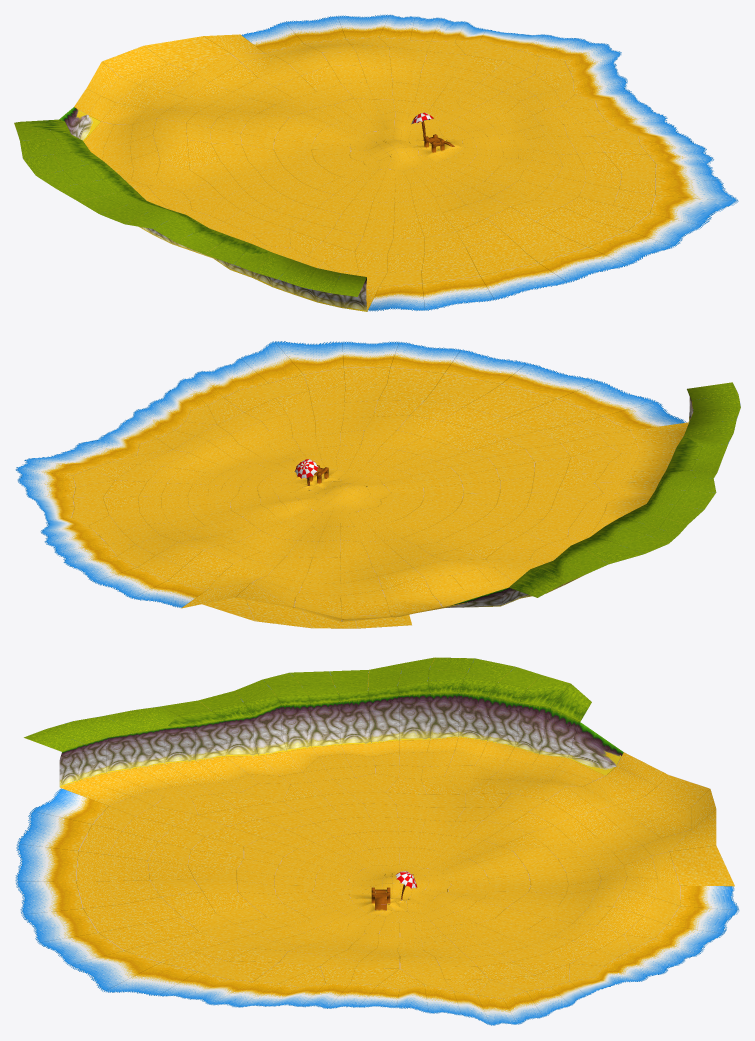
3 views of the same model, one above another, from view 1: azimuth 30°, elevation 25°; view 2: azimuth 150°, elevation 25°; view 3: azimuth 270°, elevation 25° (orthographic). The views are drawn at different scales.
Parts seen in each view (by area): view 1: T1I1M002_15, T1I1M002_3, T1I1M002_76, T1I1M002_84, T1I1M002_13, T1I1M002_44, T1I1M002_82, T1I1M002_79, T1I1M002_70, T1I1M002_59, T1I1M002_27, T1I1M002_58 (+65 smaller); view 2: T1I1M002_84, T1I1M002_44, T1I1M002_76, T1I1M002_59, T1I1M002_79, T1I1M002_15, T1I1M002_70, T1I1M002_27, T1I1M002_82, T1I1M002_13, T1I1M002_58, T1I1M002_65 (+67 smaller); view 3: T1I1M002_42, T1I1M002_63, T1I1M002_20, T1I1M002_82, T1I1M002_53, T1I1M002_31, T1I1M002_73, T1I1M002_84, T1I1M002_44, T1I1M002_15, T1I1M002_79, T1I1M002_76 (+68 smaller).
Boxes of the visible parts, x1,y1,x2,y2 form: T1I1M002_15: (275, 44, 392, 91); T1I1M002_3: (101, 46, 194, 108); T1I1M002_76: (457, 207, 562, 263); T1I1M002_84: (422, 253, 567, 300); T1I1M002_13: (168, 62, 273, 117); T1I1M002_44: (209, 167, 315, 218); T1I1M002_82: (294, 273, 424, 311); T1I1M002_79: (650, 178, 738, 225); T1I1M002_70: (604, 152, 720, 195); T1I1M002_59: (491, 136, 584, 188); T1I1M002_27: (458, 46, 569, 91); T1I1M002_58: (420, 149, 524, 192); T1I1M002_84: (487, 363, 601, 422); T1I1M002_44: (433, 502, 550, 545); T1I1M002_76: (410, 388, 535, 429); T1I1M002_59: (230, 413, 343, 458); T1I1M002_79: (241, 341, 343, 383); T1I1M002_15: (156, 526, 260, 576); T1I1M002_70: (199, 358, 308, 412); T1I1M002_27: (73, 468, 166, 515); T1I1M002_82: (603, 382, 737, 442); T1I1M002_13: (258, 557, 377, 602); T1I1M002_58: (292, 430, 397, 475); T1I1M002_65: (497, 443, 608, 492); T1I1M002_42: (339, 681, 430, 766); T1I1M002_63: (178, 687, 286, 781); T1I1M002_20: (481, 682, 579, 768); T1I1M002_82: (24, 729, 136, 824); T1I1M002_53: (259, 685, 350, 776); T1I1M002_31: (423, 678, 506, 772); T1I1M002_73: (82, 724, 198, 796); T1I1M002_84: (15, 824, 121, 881); T1I1M002_44: (322, 792, 430, 833); T1I1M002_15: (547, 876, 657, 924); T1I1M002_79: (68, 950, 197, 995); T1I1M002_76: (104, 855, 202, 904).
Size of the model in its own units: 40.38 by 4 by 38.75.
Materials: 1 (1 with a texture image).
